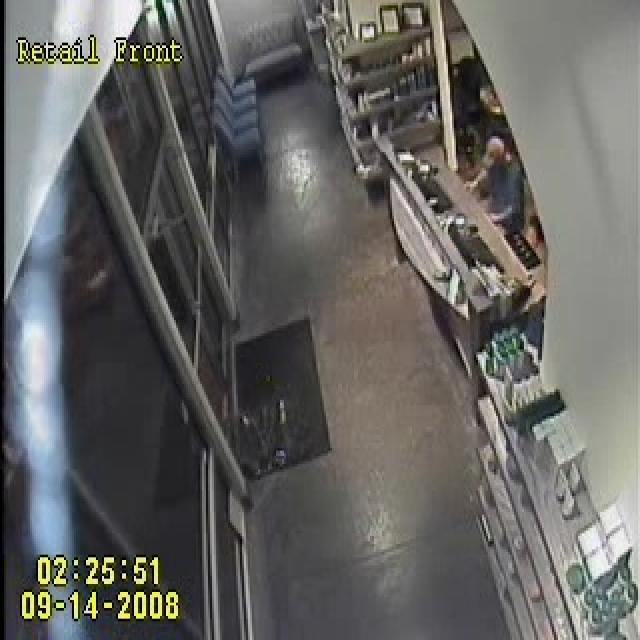thief: (451, 132, 529, 261)
